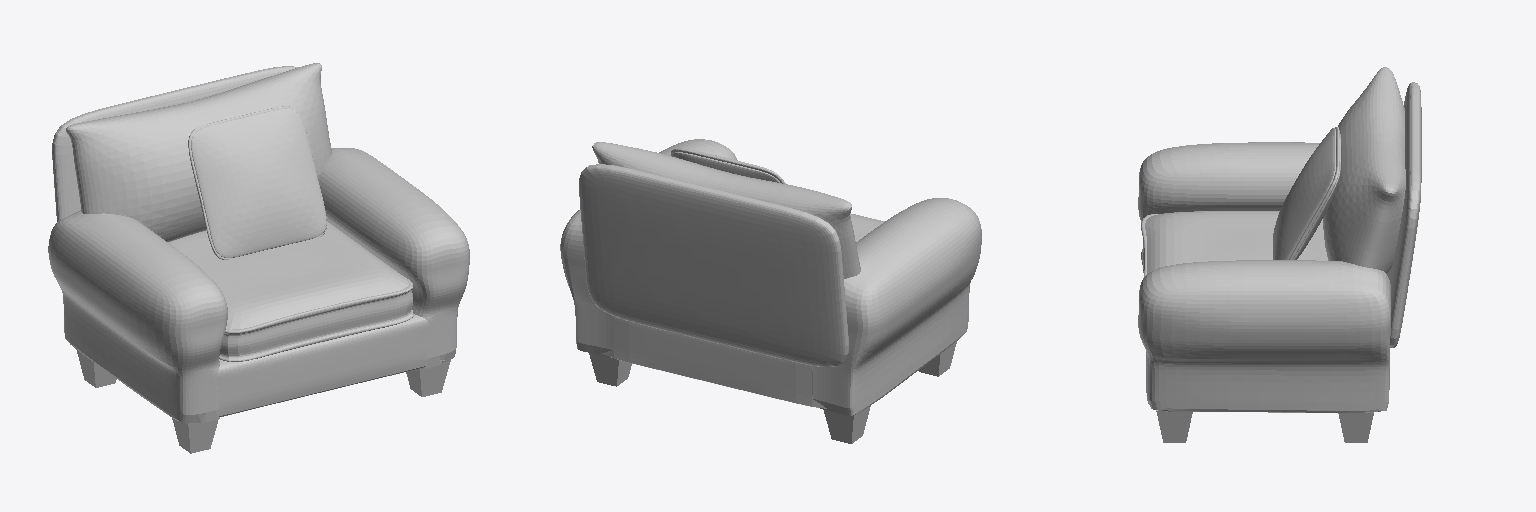
File: singleChair.obj
3 views of the same model, side by side, from view 1: azimuth 30°, elevation 25°; view 2: azimuth 150°, elevation 25°; view 3: azimuth 270°, elevation 25° (orthographic).
Visible parts, largest first — view 1: PolyMesh_3, PolyMesh_1, PolyMesh_4, PolyMesh_2_1, PolyMesh_3_1, PolyMesh_2, PolyMesh_1_1, PolyMesh_5_1, PolyMesh_5_2, PolyMesh_5; view 2: PolyMesh_1_1, PolyMesh_3, PolyMesh_2, PolyMesh_1, PolyMesh_3_1, PolyMesh_2_1, PolyMesh_5, PolyMesh_5_3, PolyMesh_5_1; view 3: PolyMesh_3_1, PolyMesh_1, PolyMesh_3, PolyMesh_4, PolyMesh_2_1, PolyMesh_1_1, PolyMesh_5_2, PolyMesh_5_3.
Part boxes in pixels (x1,y1,x2,y2): PolyMesh_3: (48,210,227,423); PolyMesh_1: (66,63,331,241); PolyMesh_4: (168,221,413,361); PolyMesh_2_1: (188,106,326,259); PolyMesh_3_1: (318,148,469,368); PolyMesh_2: (216,314,444,416); PolyMesh_1_1: (52,66,298,221); PolyMesh_5_1: (172,418,217,453); PolyMesh_5_2: (406,360,450,396); PolyMesh_5: (76,349,116,387); PolyMesh_1_1: (579,164,848,366); PolyMesh_3: (812,198,981,415); PolyMesh_2: (602,316,826,408); PolyMesh_1: (592,142,860,278); PolyMesh_3_1: (560,139,737,356); PolyMesh_2_1: (671,148,785,183); PolyMesh_5: (823,406,870,443); PolyMesh_5_3: (589,353,631,386); PolyMesh_5_1: (918,341,956,376); PolyMesh_3_1: (1138,260,1390,412); PolyMesh_1: (1323,67,1405,273); PolyMesh_3: (1138,142,1319,222); PolyMesh_4: (1141,211,1327,278); PolyMesh_2_1: (1273,127,1340,259); PolyMesh_1_1: (1387,82,1421,347); PolyMesh_5_2: (1156,410,1192,442); PolyMesh_5_3: (1338,413,1373,442).
Size of the model in its own units: 1 by 0.7411 by 0.7615.